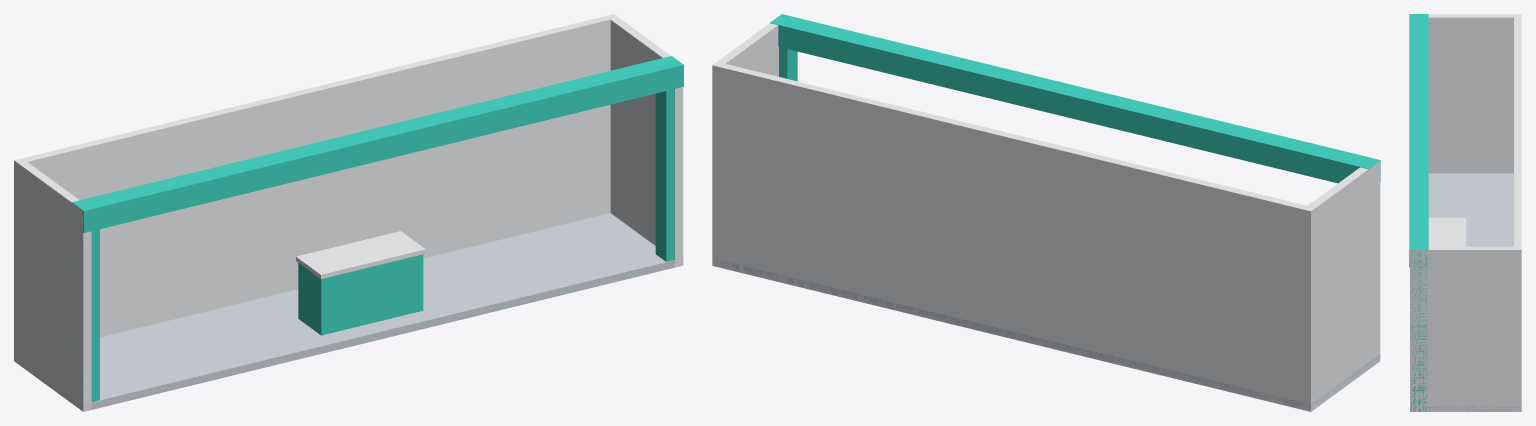
The picture shows the model from 3 angles, left to right: view 1: azimuth 30°, elevation 25°; view 2: azimuth 150°, elevation 25°; view 3: azimuth 270°, elevation 25°; orthographic projection. The views are drawn at different scales.
Parts seen in each view (by area): view 1: Exhibition Booth Concept; view 2: Exhibition Booth Concept; view 3: Exhibition Booth Concept.
Boxes of the visible parts, x1,y1,x2,y2 form: Exhibition Booth Concept: [14, 14, 683, 411]; Exhibition Booth Concept: [712, 14, 1380, 411]; Exhibition Booth Concept: [1409, 14, 1521, 411].
Size of the model in its own units: 10 by 3.2 by 2.01.
